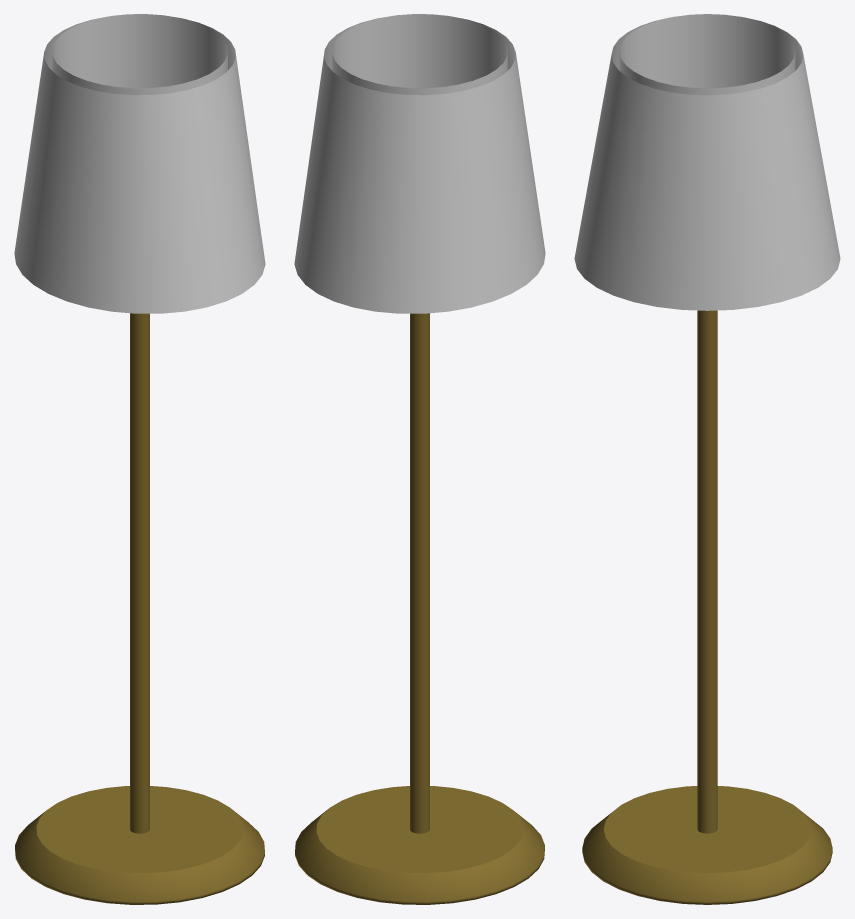
File: L2_Lamp.fbx
3 views of the same model, side by side, from view 1: azimuth 30°, elevation 25°; view 2: azimuth 150°, elevation 25°; view 3: azimuth 270°, elevation 25° (orthographic).
Visible parts, largest first — view 1: F1_LampA2.001; view 2: F1_LampA2.001; view 3: F1_LampA2.001.
Part boxes in pixels (x1,y1,x2,y2): F1_LampA2.001: [14, 14, 265, 904]; F1_LampA2.001: [294, 14, 545, 904]; F1_LampA2.001: [574, 14, 840, 904].
Bounding box in the file's own units: 0.5 × 1.76 × 0.5309.
